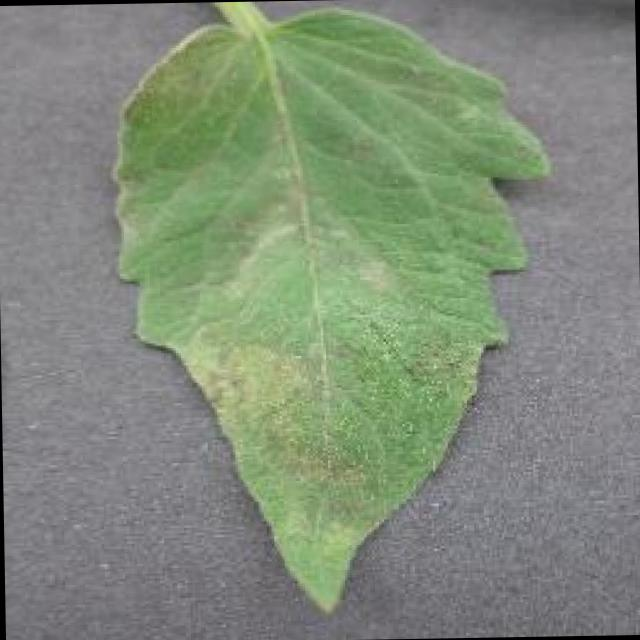Tomato_Late_Blight: (202, 232, 473, 560)
